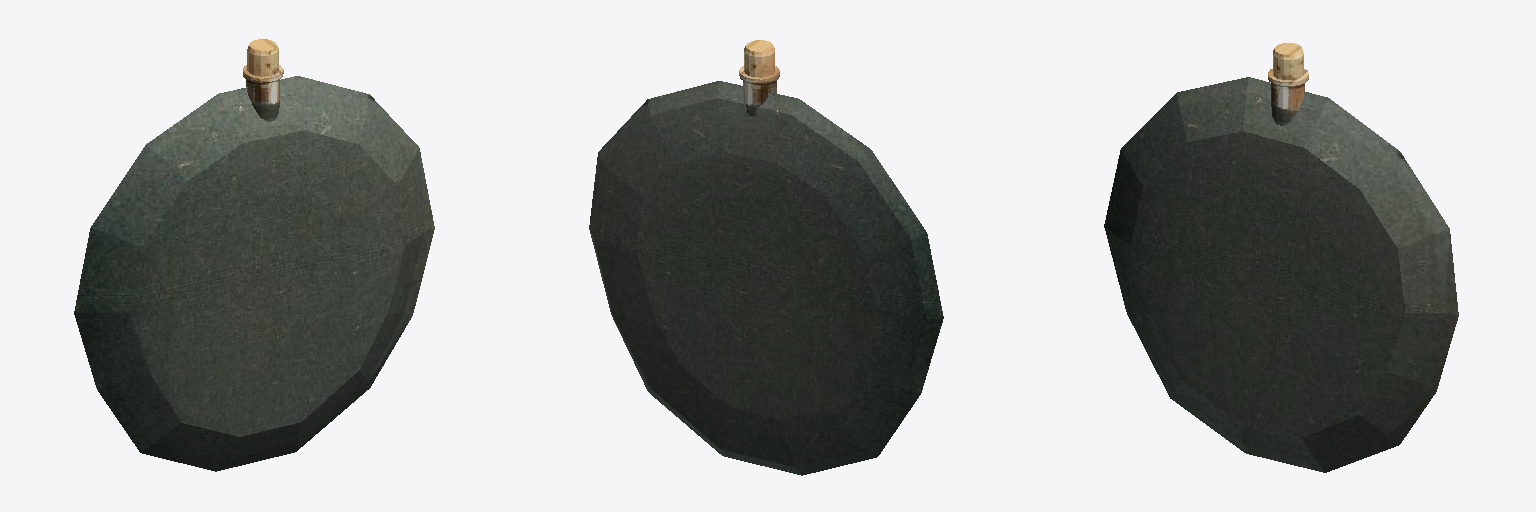
3 views of the same model, side by side, from view 1: azimuth 30°, elevation 25°; view 2: azimuth 150°, elevation 25°; view 3: azimuth 330°, elevation 25° (orthographic).
Parts seen in each view (by area): view 1: wwater_pouch; view 2: wwater_pouch; view 3: wwater_pouch.
Boxes of the visible parts, box(x1,y1,x2,y2) form: wwater_pouch: box(74, 39, 434, 471); wwater_pouch: box(589, 40, 943, 475); wwater_pouch: box(1104, 43, 1458, 472).
Bounding box in the file's own units: 0.4358 × 0.4856 × 0.0515.
1 materials, 1 textured.